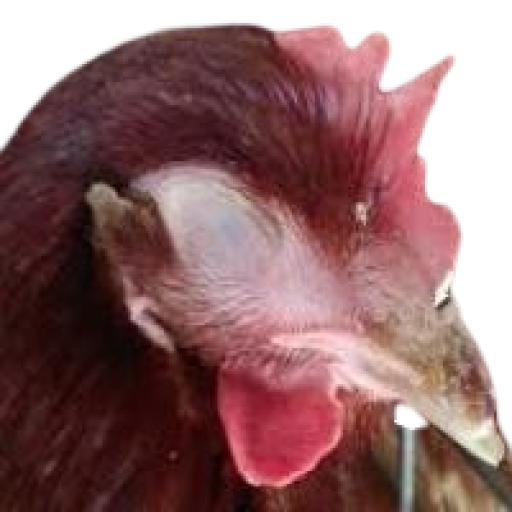disease: (125, 98, 352, 385)
